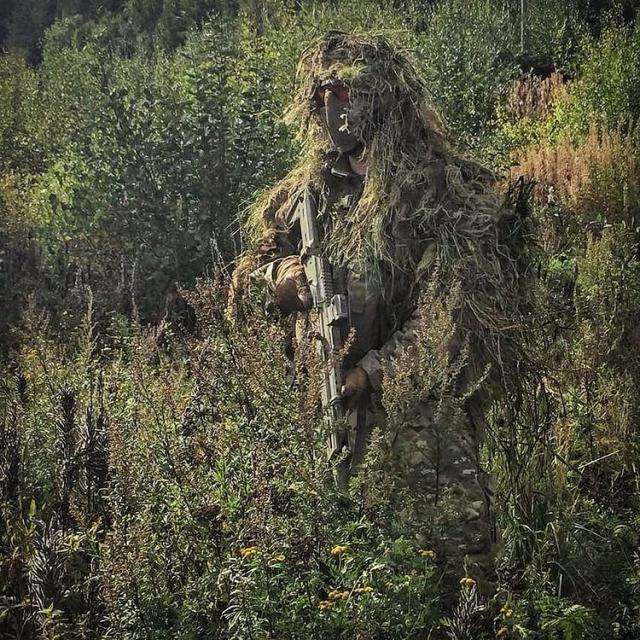Camouflage: (221, 33, 545, 618)
